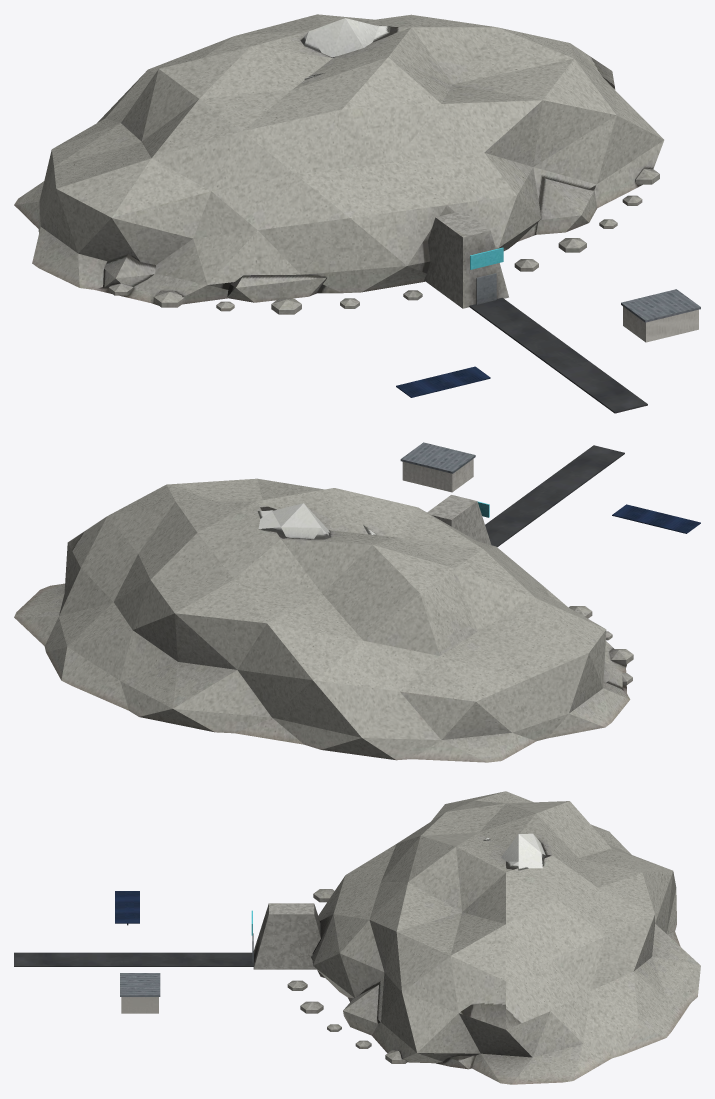
The model's file is global_seed_vault.glb.
The picture shows the model from 3 angles, top to bottom: view 1: azimuth 30°, elevation 25°; view 2: azimuth 150°, elevation 25°; view 3: azimuth 270°, elevation 25°; orthographic projection. The views are drawn at different scales.
Visible parts, largest first — view 1: LOD0.001, LOD0.002, LOD0; view 2: LOD0.001, LOD0.002, LOD0; view 3: LOD0.001, LOD0.002, LOD0.
Boxes of the visible parts, <box> form: LOD0.001: <box>14,14,664,314</box>; LOD0.002: <box>396,289,700,413</box>; LOD0: <box>424,210,508,308</box>; LOD0.001: <box>14,478,633,762</box>; LOD0.002: <box>400,442,700,547</box>; LOD0: <box>427,495,491,544</box>; LOD0.001: <box>287,791,700,1084</box>; LOD0.002: <box>14,891,253,1013</box>; LOD0: <box>251,903,320,969</box>.
Size of what is drawn, in the model's own units: 9.1 by 2.38 by 10.89.
1 material, 1 textured.
